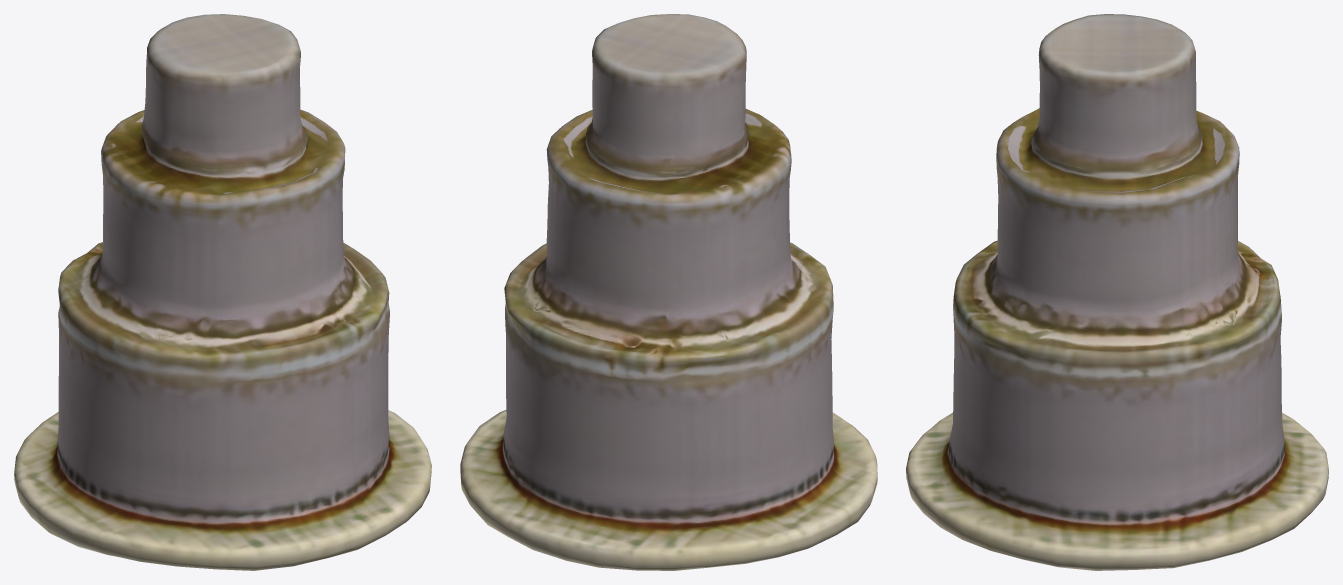
Rendered from cake 3 pisos.glb.
3 renders of one model, left to right at view 1: azimuth 30°, elevation 25°; view 2: azimuth 150°, elevation 25°; view 3: azimuth 270°, elevation 25°, orthographic.
Parts seen in each view (by area): view 1: mesh; view 2: mesh; view 3: mesh.
Part boxes in pixels (left/top/right/bottom): mesh: left=14, top=14, right=431, bottom=570; mesh: left=460, top=14, right=877, bottom=570; mesh: left=906, top=14, right=1328, bottom=570.
Bounding box in the file's own units: 0.8581 × 0.9967 × 0.8585.
Materials: 1 (1 with a texture image).
